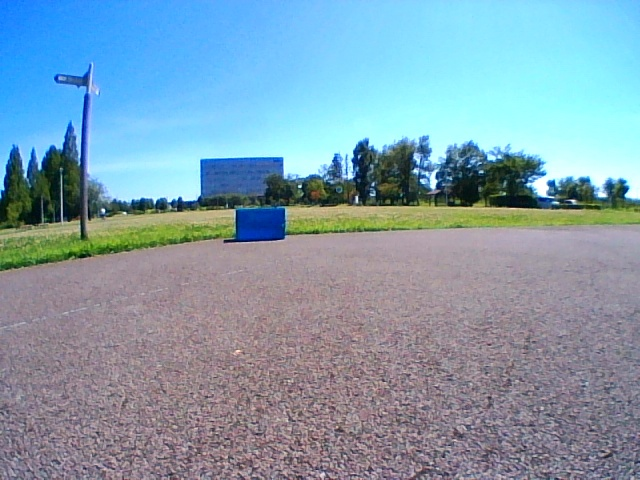blue_box: (237, 208, 285, 241)
